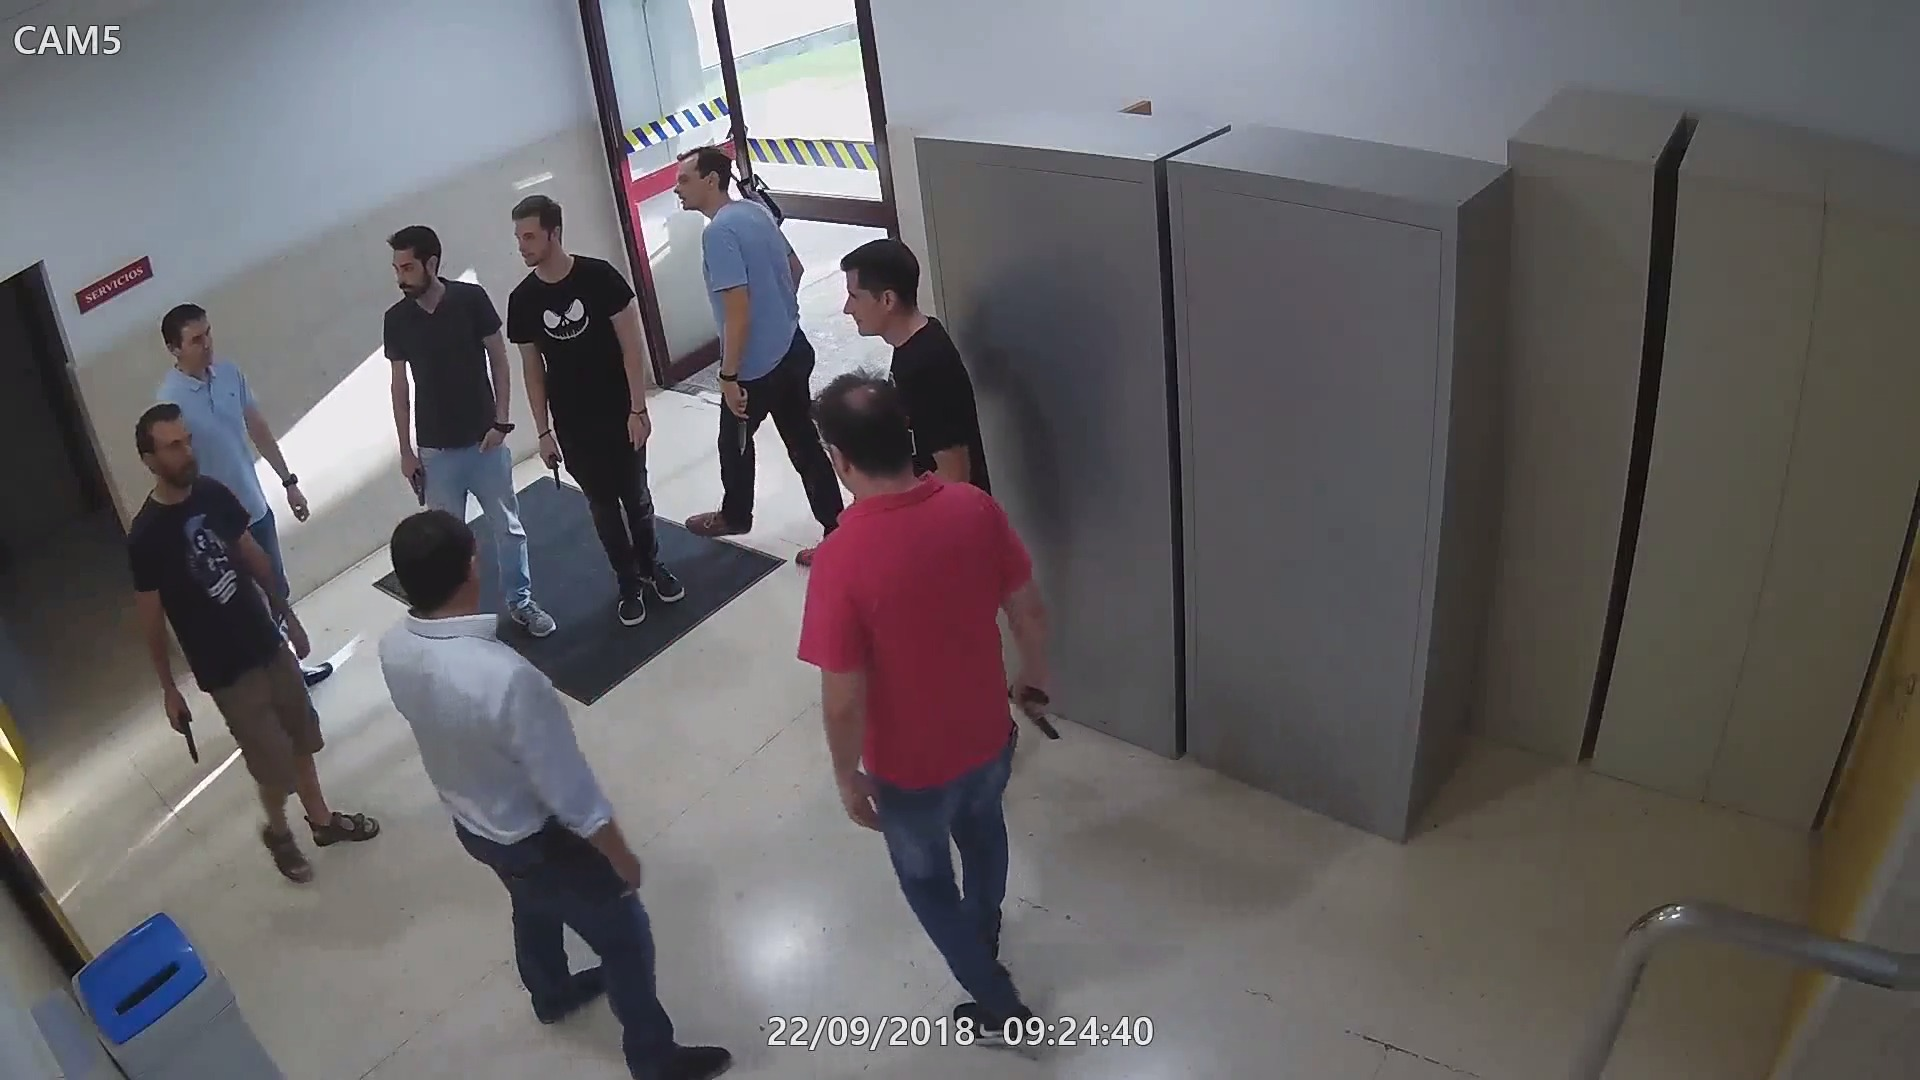Handgun: (1000, 675, 1068, 741), (158, 687, 203, 766), (538, 429, 568, 489), (400, 452, 431, 506)
Knife: (719, 378, 753, 458)
